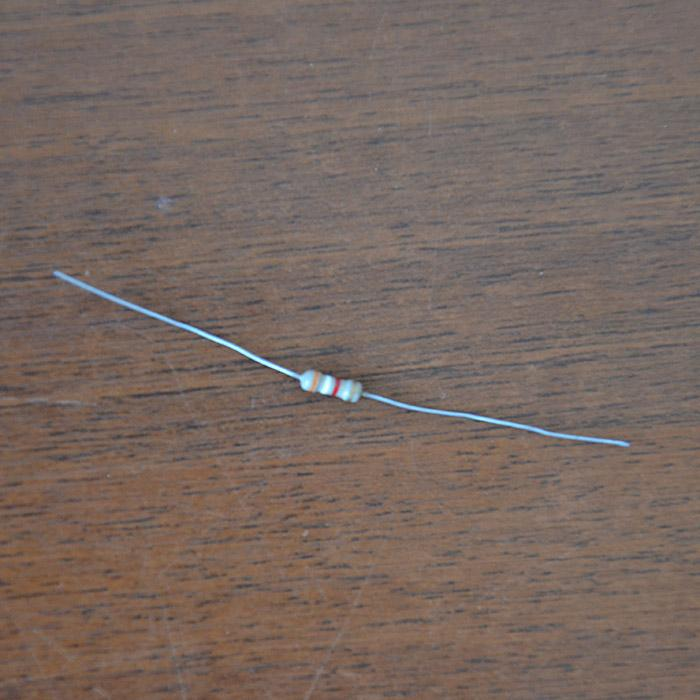resistor: (300, 369, 364, 404)
